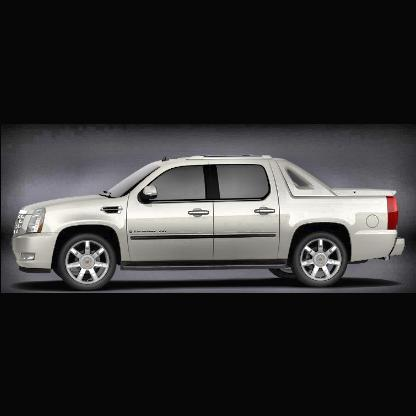Cadillac Escalade EXT Crew Cab 2007: (12, 149, 409, 291)
